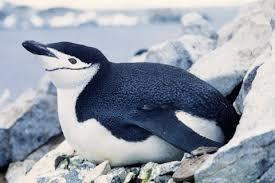chinstrap: (24, 28, 244, 166)
